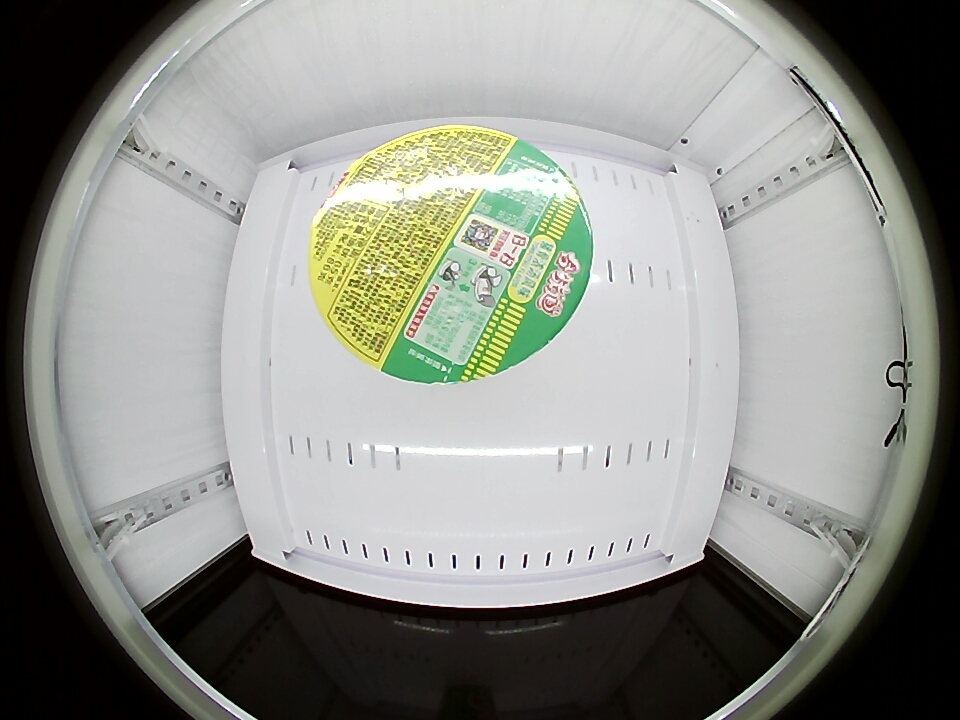heweidao2: (306, 124, 594, 384)
